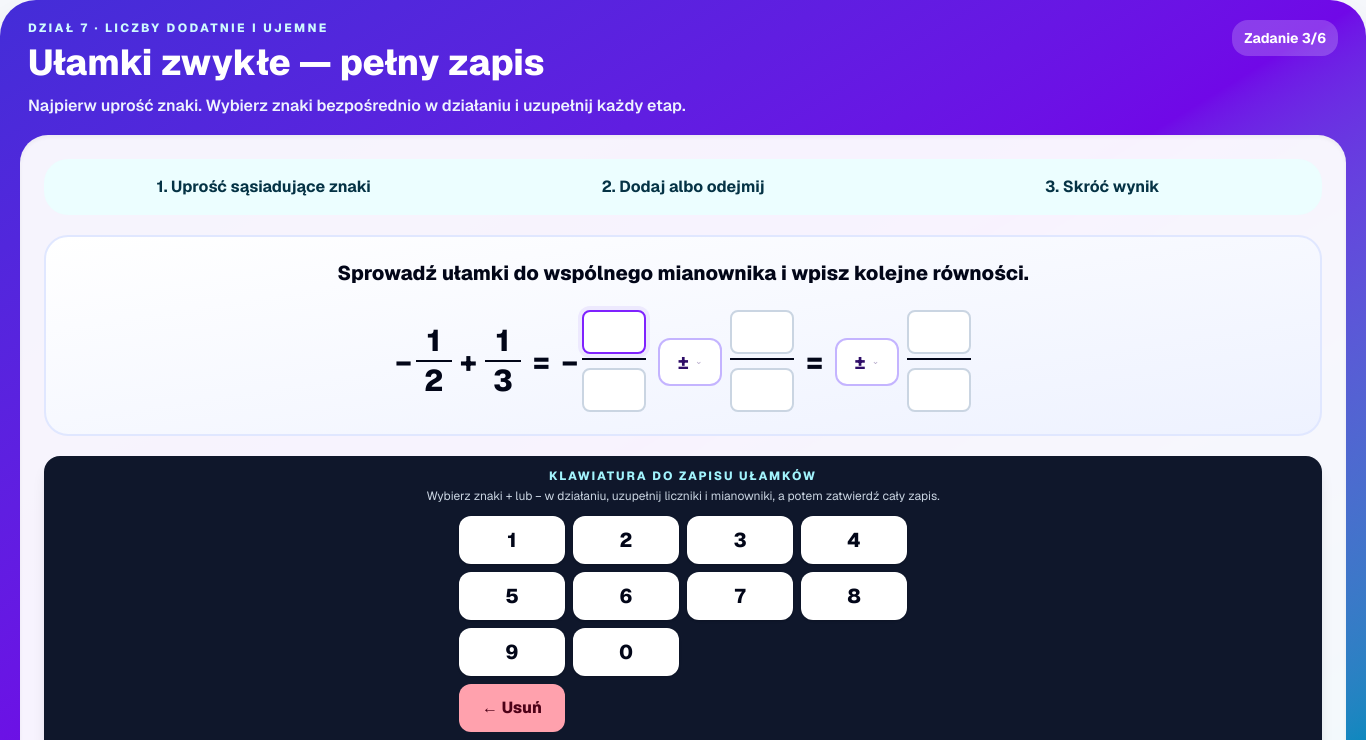
Test: Grade6SignedNumbersLessonLab V2 › pokazuje ułamki jako pełny łańcuch po znaku równości i blokuje klawiaturę urządzenia
Expected: the button named "Znak wyniku końcowego: wybierz znak" is shown, 835,338 -> 899,386
Click the button named "Znak działania po uproszczeniu: wybierz znak".
click(690, 362)  # box 658,338 -> 722,386
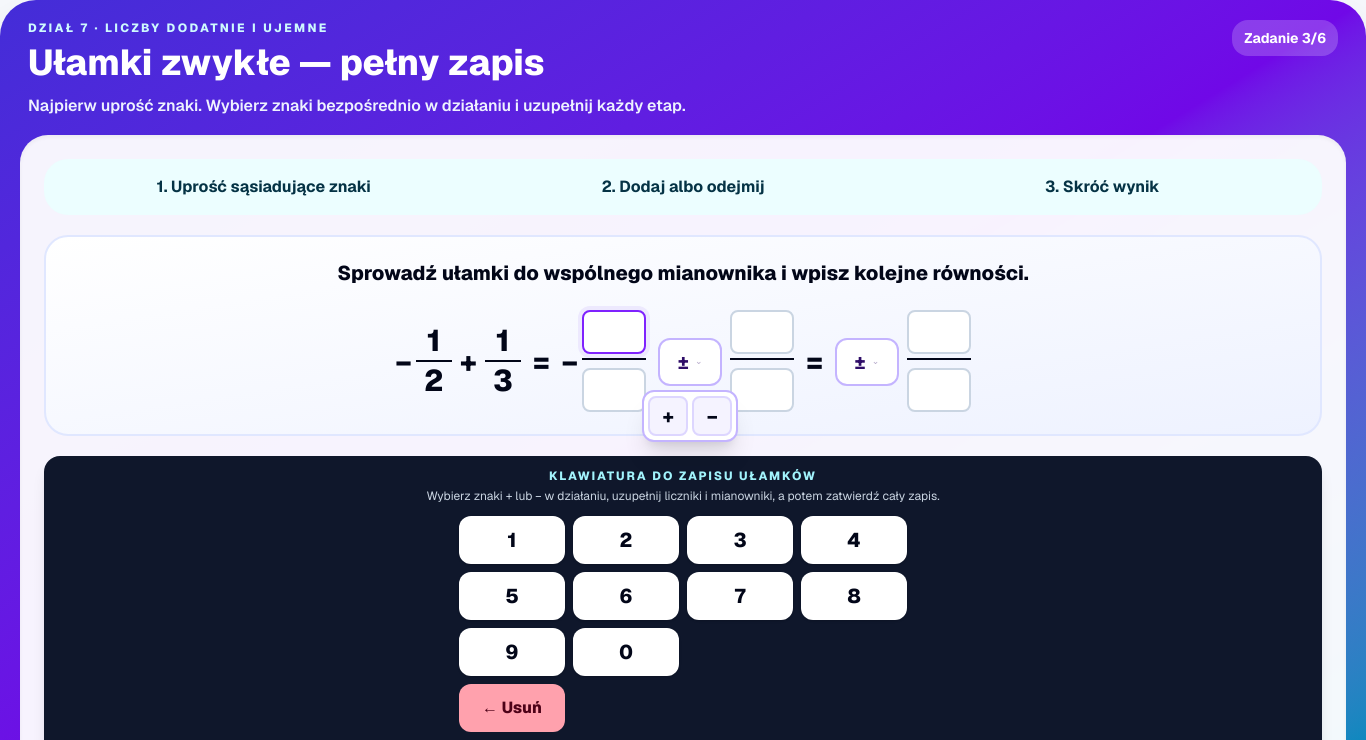
Now the option named "Znak działania po uproszczeniu: wybierz plus" is shown
Now the option named "Znak działania po uproszczeniu: wybierz minus" is shown, box 692,396 -> 732,436
Click the option named "Znak działania po uproszczeniu: wybierz plus".
click(668, 416)  # box 648,396 -> 688,436
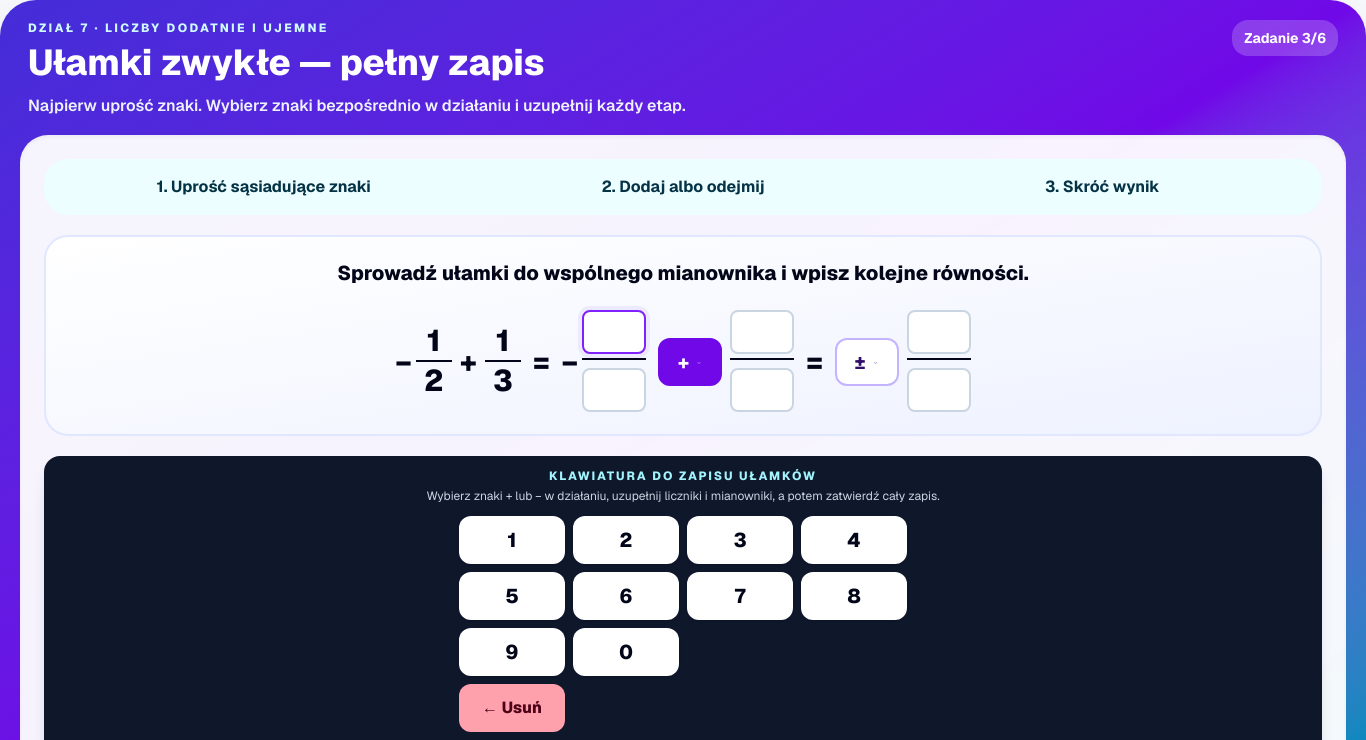
Now the button named "Znak działania po uproszczeniu: wybrano plus. Rozwiń wybór" shows "+", box 658,338 -> 722,386
